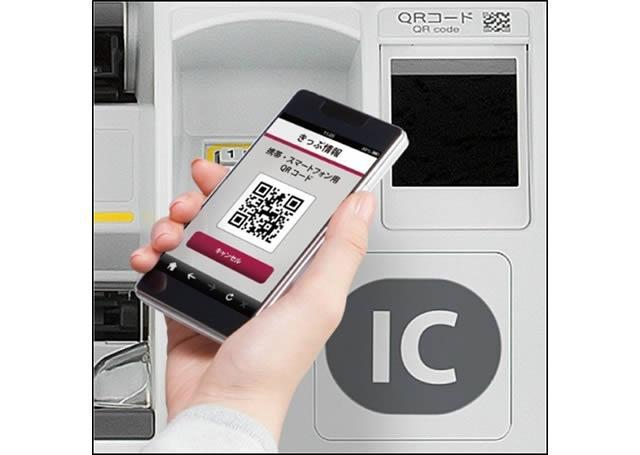Finder pattern: (282, 192, 306, 214), (227, 210, 248, 228), (251, 179, 271, 197)
